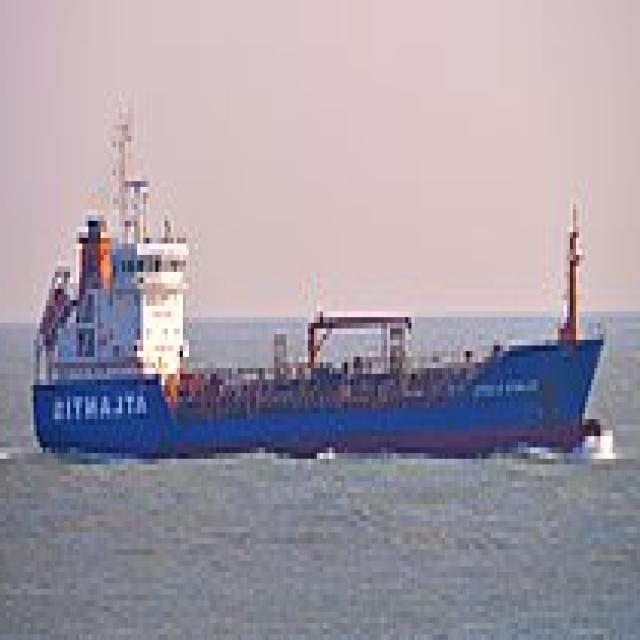Tanker: (33, 176, 610, 453)
